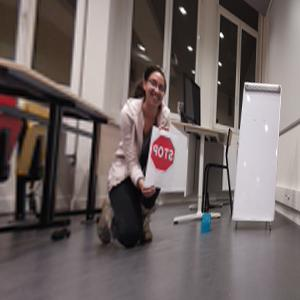stop: (151, 136, 175, 172)
